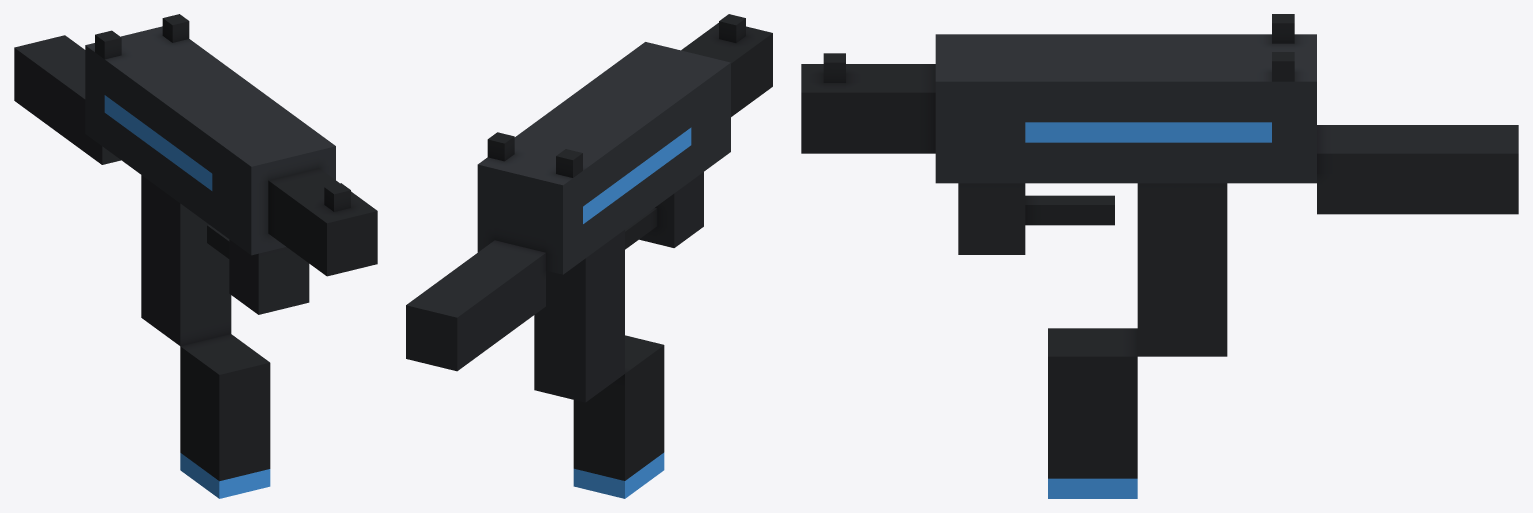
The model's file is zipper_rare.glb.
3 views of the same model, side by side, from view 1: azimuth 30°, elevation 25°; view 2: azimuth 150°, elevation 25°; view 3: azimuth 270°, elevation 25° (orthographic). The views are drawn at different scales.
Visible parts, largest first — view 1: zipper_rare_body; view 2: zipper_rare_body; view 3: zipper_rare_body.
Part boxes in pixels (x1,y1,x2,y2): zipper_rare_body: [14, 14, 377, 498]; zipper_rare_body: [406, 14, 772, 498]; zipper_rare_body: [801, 14, 1518, 498].
Size of the model in its own units: 0.1953 by 0.8594 by 1.25.
Materials: 1 (1 with a texture image).
